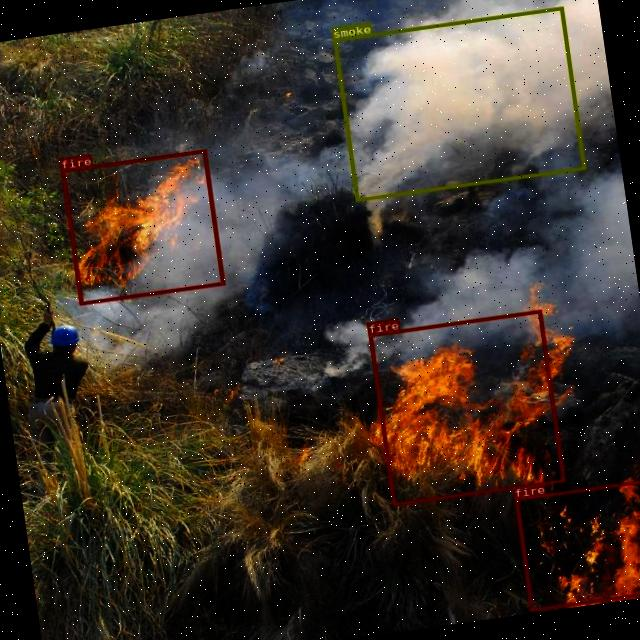fire: (368, 310, 564, 506), (60, 149, 225, 305), (514, 476, 640, 611)
smoke: (332, 6, 586, 201)
